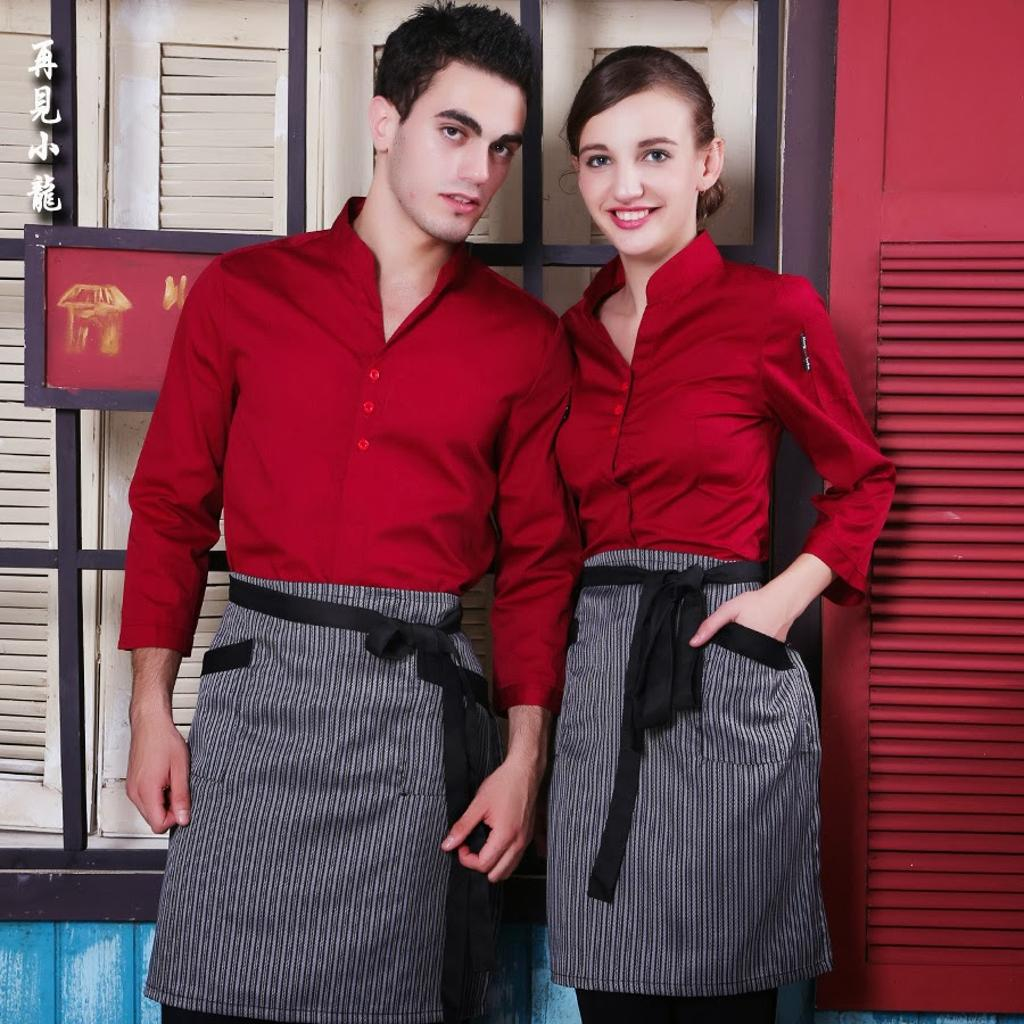face: (400, 42, 528, 238), (576, 80, 700, 256)
